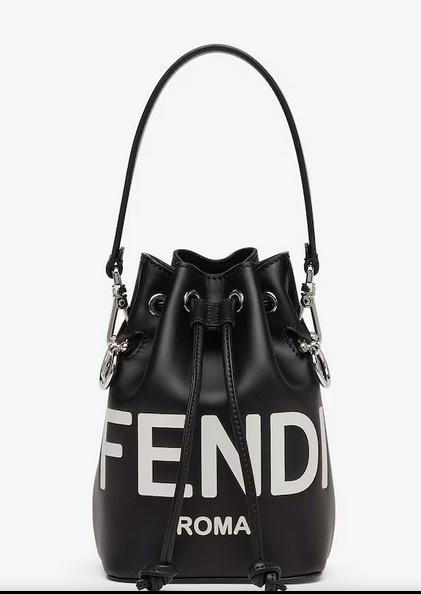FENDI: (100, 406, 328, 498)
